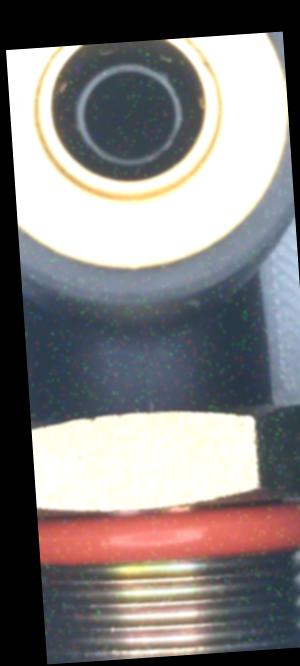joint line: (128, 330, 155, 383)
white mark: (144, 394, 161, 418)
